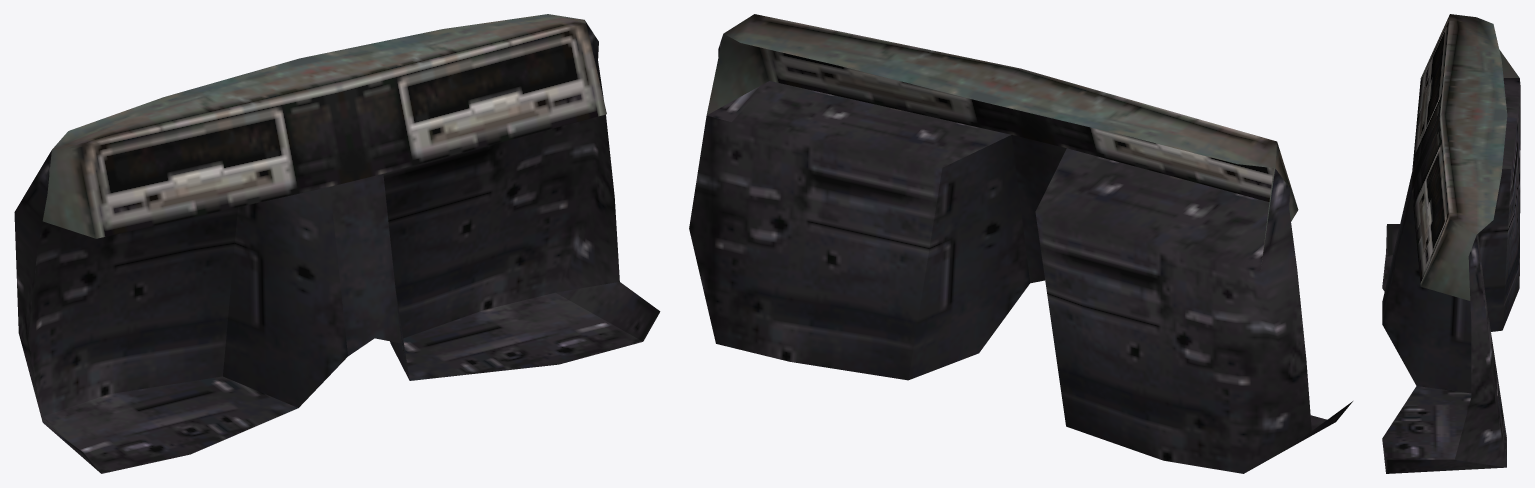
Rendered from dash_lo.fbx.
The picture shows the model from 3 angles, left to right: view 1: azimuth 30°, elevation 25°; view 2: azimuth 150°, elevation 25°; view 3: azimuth 270°, elevation 25°; orthographic projection. The views are drawn at different scales.
Parts seen in each view (by area): view 1: dash_lo; view 2: dash_lo; view 3: dash_lo.
Part boxes in pixels (<box>): dash_lo: <box>14,14,660,473</box>; dash_lo: <box>689,14,1352,473</box>; dash_lo: <box>1382,14,1520,473</box>.
Bounding box in the file's own units: 132 × 64.5 × 32.3.
